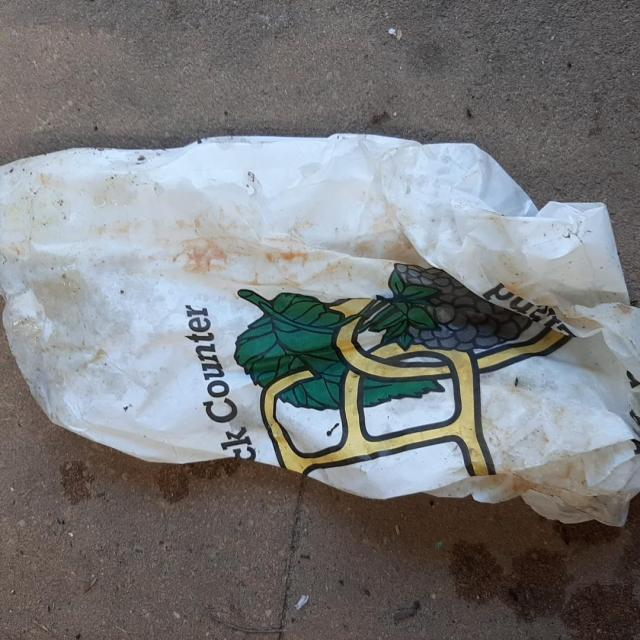Paper: (1, 124, 639, 534)
